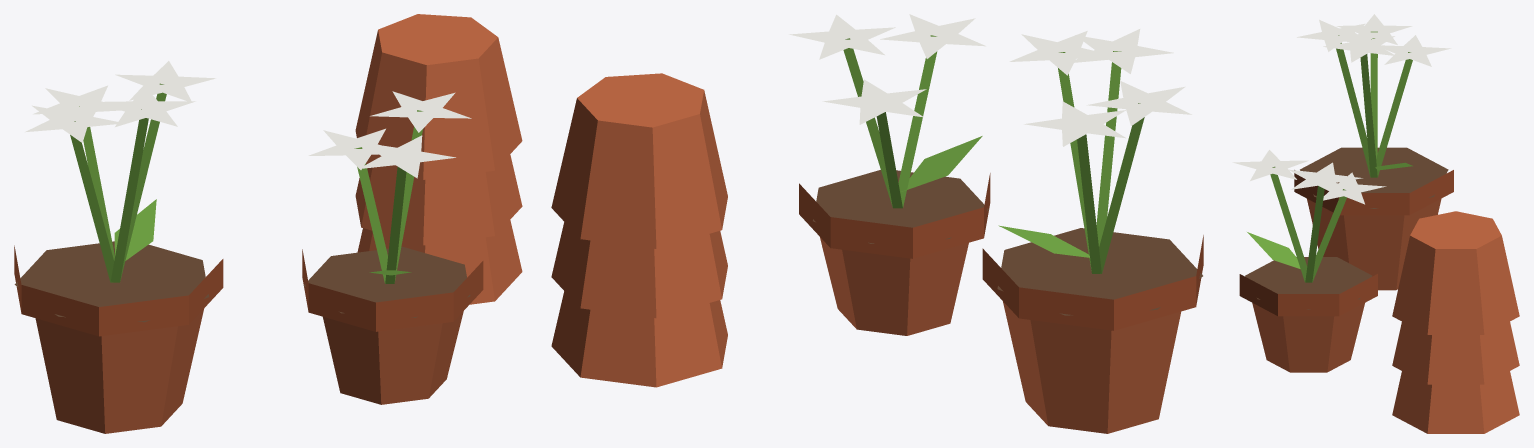
File: flower_pots.glb
The picture shows the model from 3 angles, left to right: view 1: azimuth 30°, elevation 25°; view 2: azimuth 150°, elevation 25°; view 3: azimuth 270°, elevation 25°; orthographic projection. The views are drawn at different scales.
Parts seen in each view (by area): view 1: flower_pots; view 2: flower_pots; view 3: flower_pots.
Boxes of the visible parts, x1,y1,x2,y2 form: flower_pots: (14,14,522,433); flower_pots: (551,14,1203,433); flower_pots: (1232,14,1519,433).
Bounding box in the file's own units: 0.8581 × 0.4868 × 0.5273.
1 material, 1 textured.
